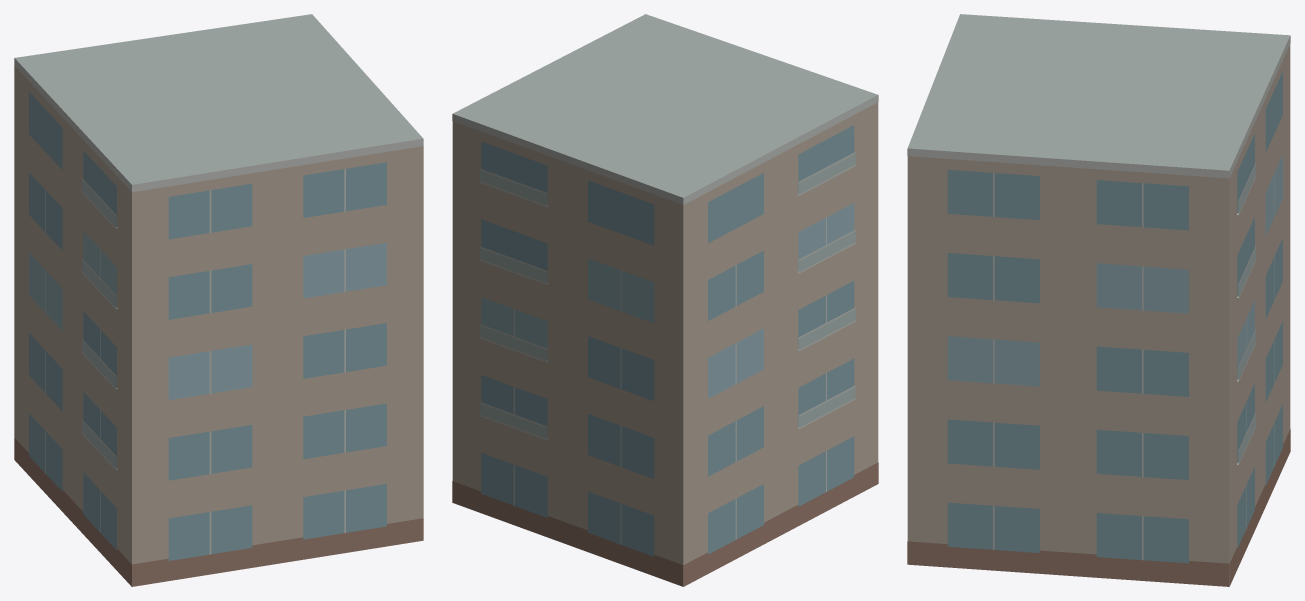
File: survey-upis-32645663.glb
3 views of the same model, side by side, from view 1: azimuth 30°, elevation 25°; view 2: azimuth 150°, elevation 25°; view 3: azimuth 270°, elevation 25° (orthographic). The views are drawn at different scales.
Parts seen in each view (by area): view 1: survey-upis-32645663.tmp; view 2: survey-upis-32645663.tmp; view 3: survey-upis-32645663.tmp.
Boxes of the visible parts, left/top/right/bottom form: survey-upis-32645663.tmp: left=14, top=14, right=423, bottom=586; survey-upis-32645663.tmp: left=452, top=14, right=878, bottom=586; survey-upis-32645663.tmp: left=907, top=14, right=1290, bottom=586.
Size of the model in its own units: 10.67 by 13.2 by 11.02.
